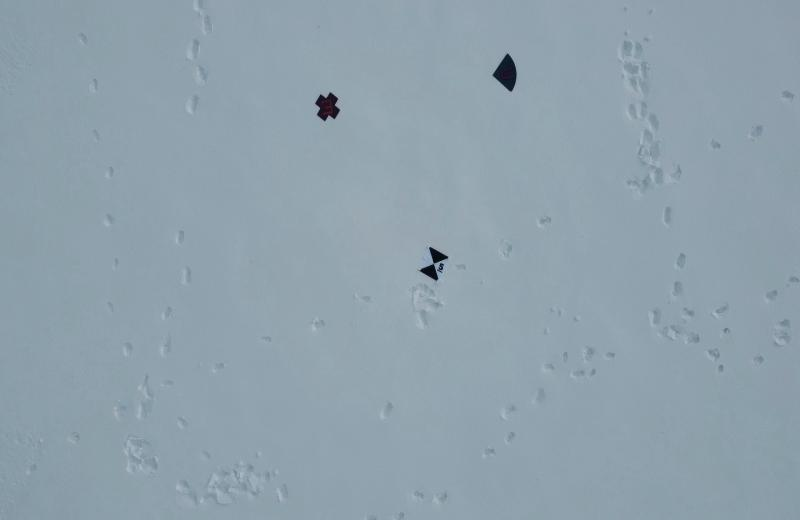Cross: (315, 88, 343, 124)
Quarter Circle: (491, 51, 519, 98)
